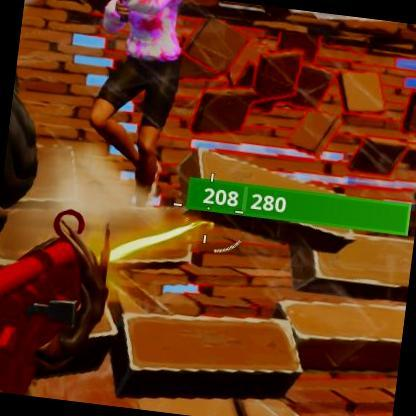person: (0, 202, 121, 403), (108, 0, 198, 185)
